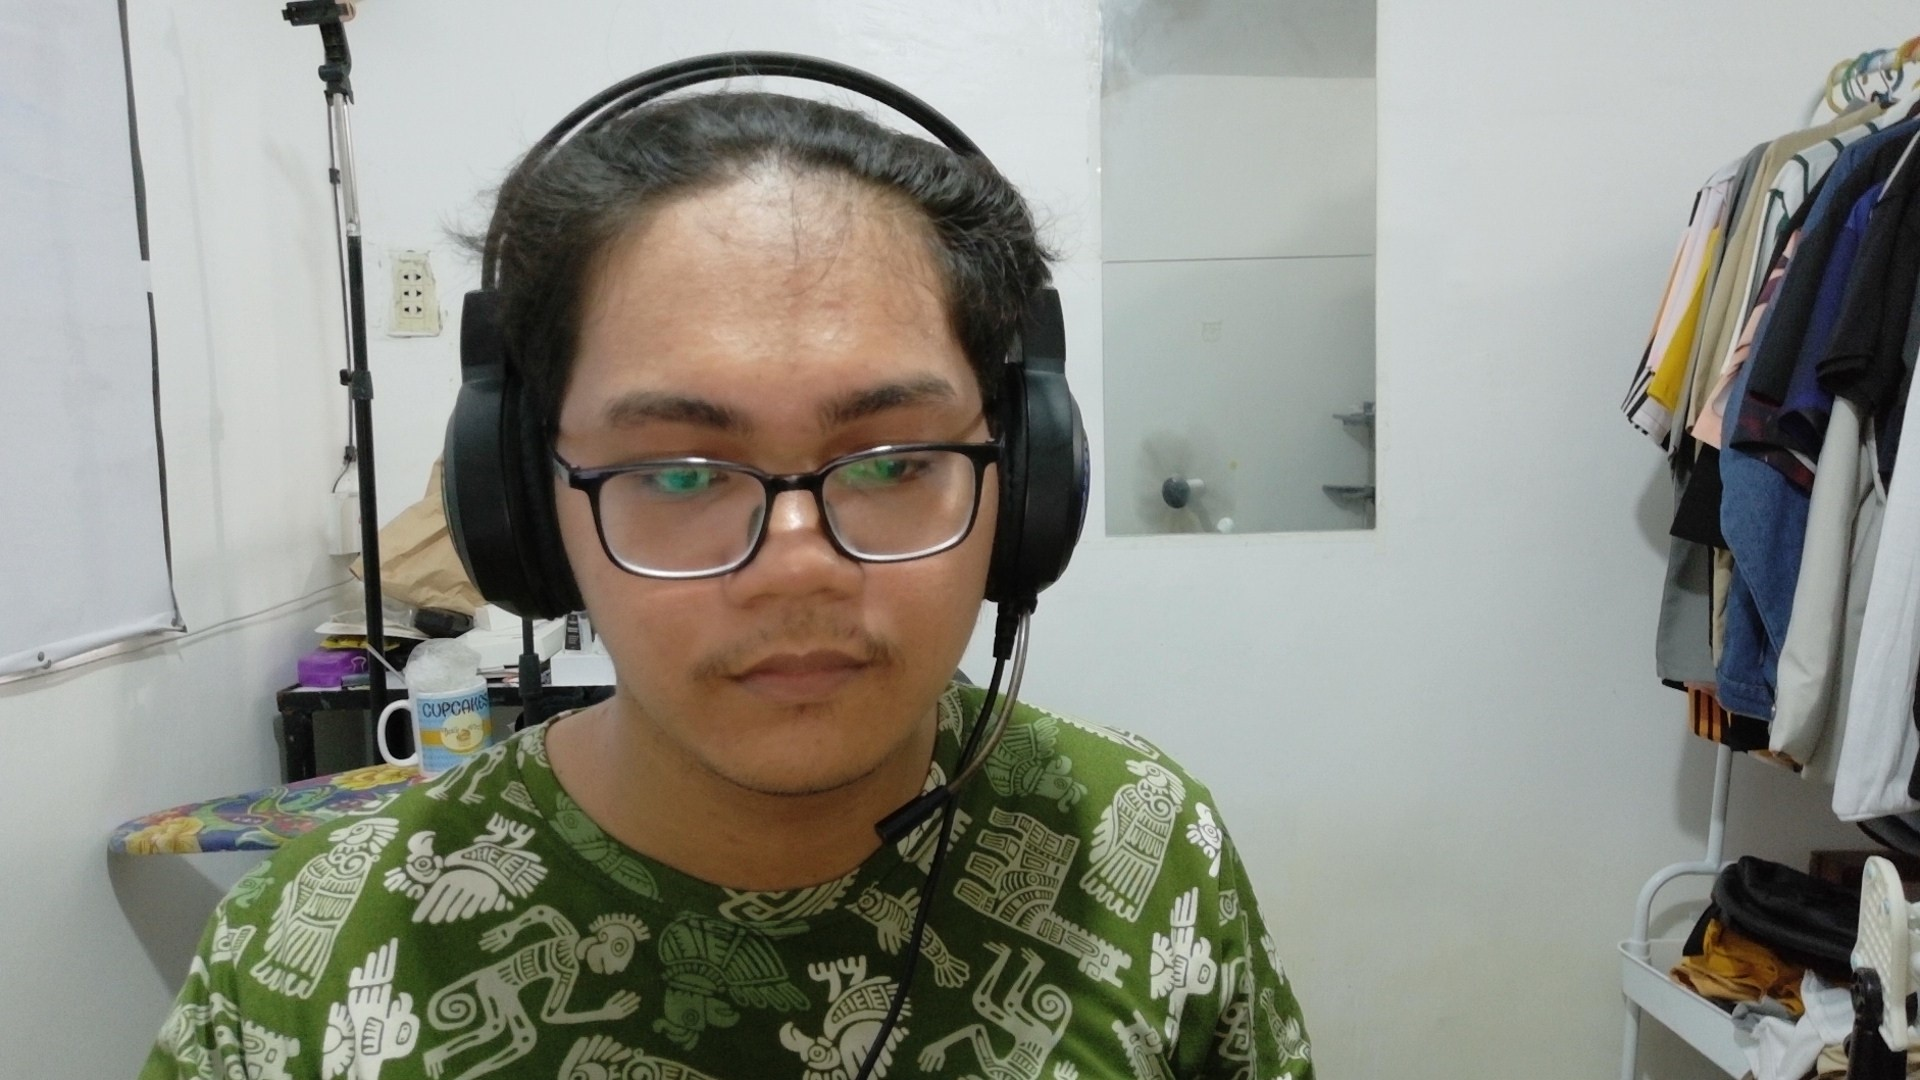face: (401, 10, 1160, 752)
